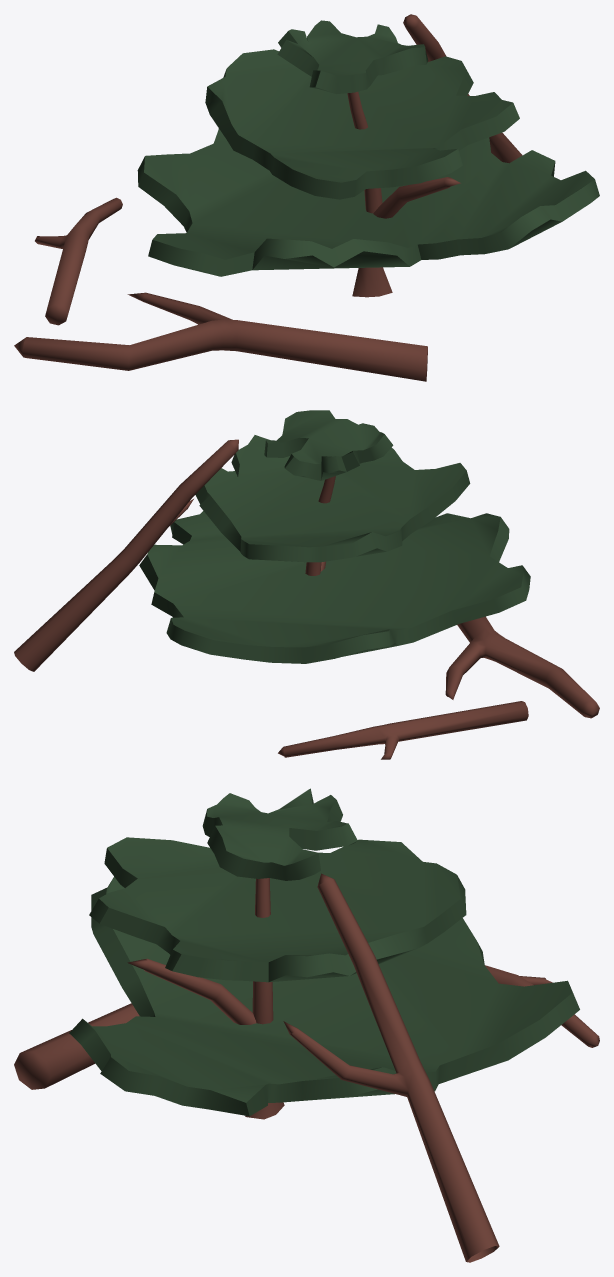
File: s_branch_full.fbx
The picture shows the model from 3 angles, top to bottom: view 1: azimuth 30°, elevation 25°; view 2: azimuth 150°, elevation 25°; view 3: azimuth 270°, elevation 25°; orthographic projection. The views are drawn at different scales.
Parts seen in each view (by area): view 1: s_bush, s_branch_full; view 2: s_bush, s_branch_full; view 3: s_bush, s_branch_full.
Boxes of the visible parts, x1,y1,x2,y2 form: s_bush: (137, 20, 599, 276); s_branch_full: (14, 14, 522, 381); s_bush: (139, 410, 530, 663); s_branch_full: (14, 439, 599, 759); s_bush: (69, 788, 579, 1116); s_branch_full: (14, 873, 599, 1262).
Bounding box in the file's own units: 207 × 157 × 91.25.
